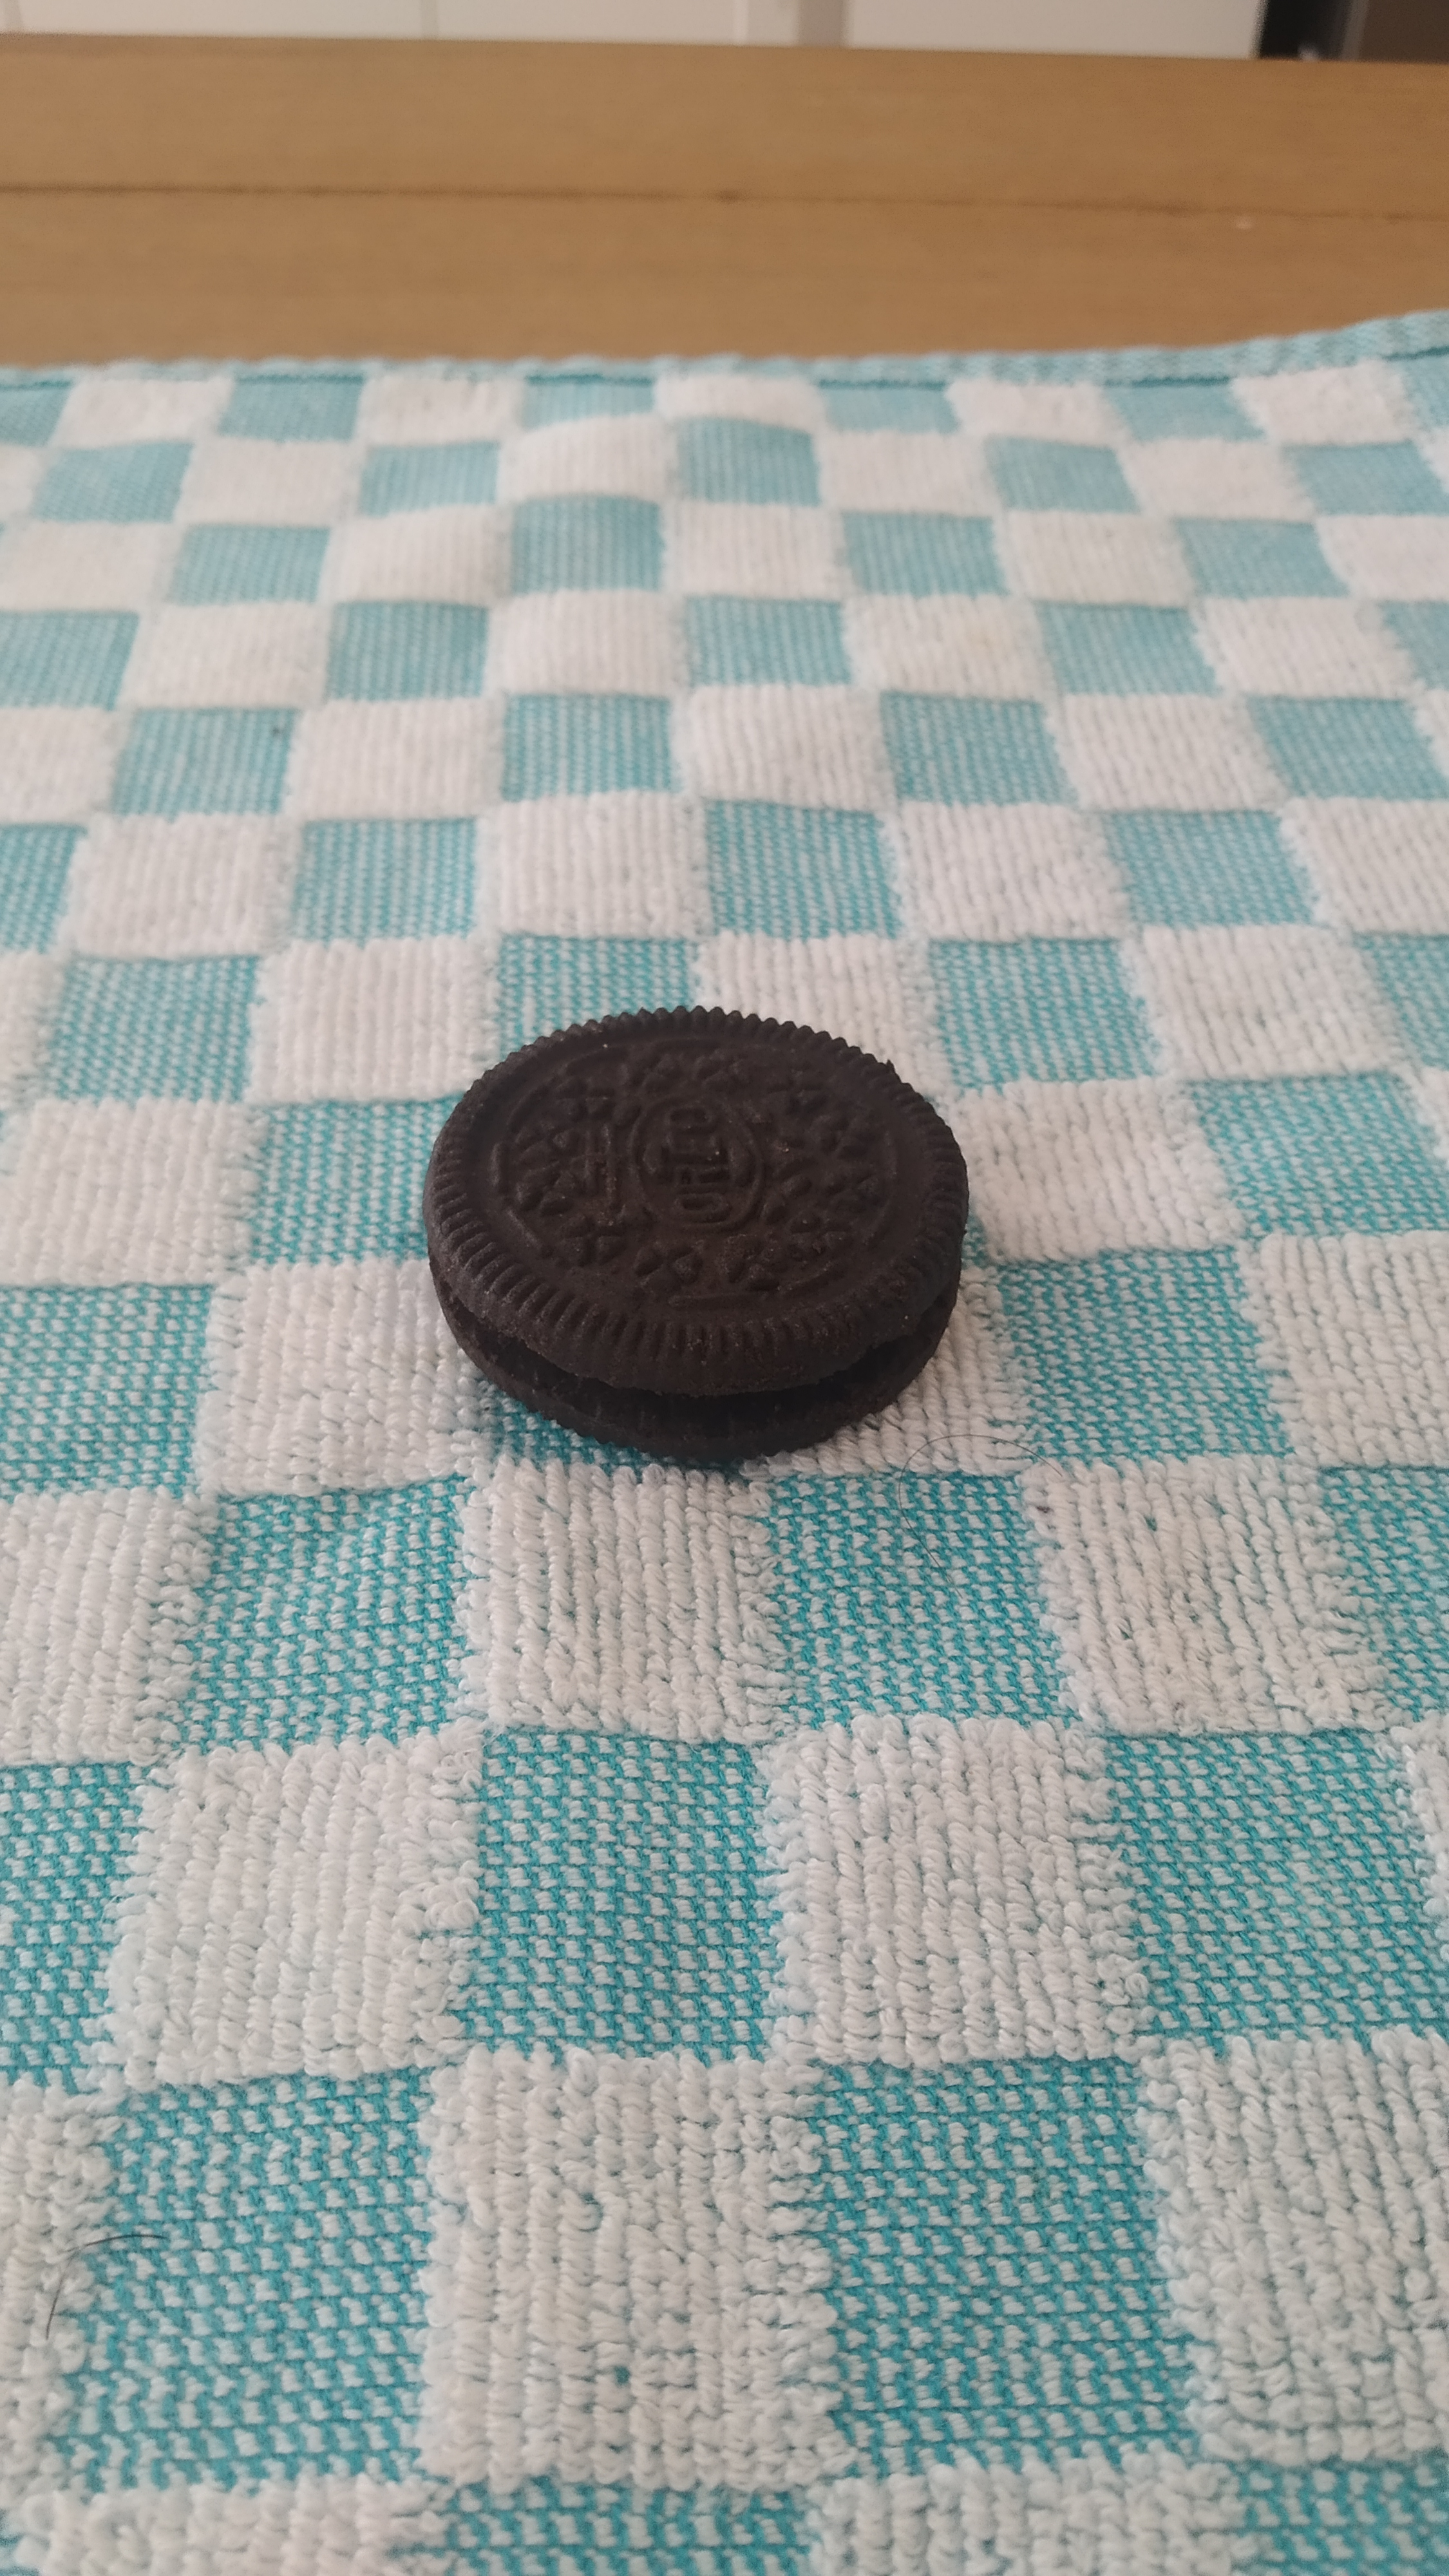oreo: (423, 1005, 970, 1463)
